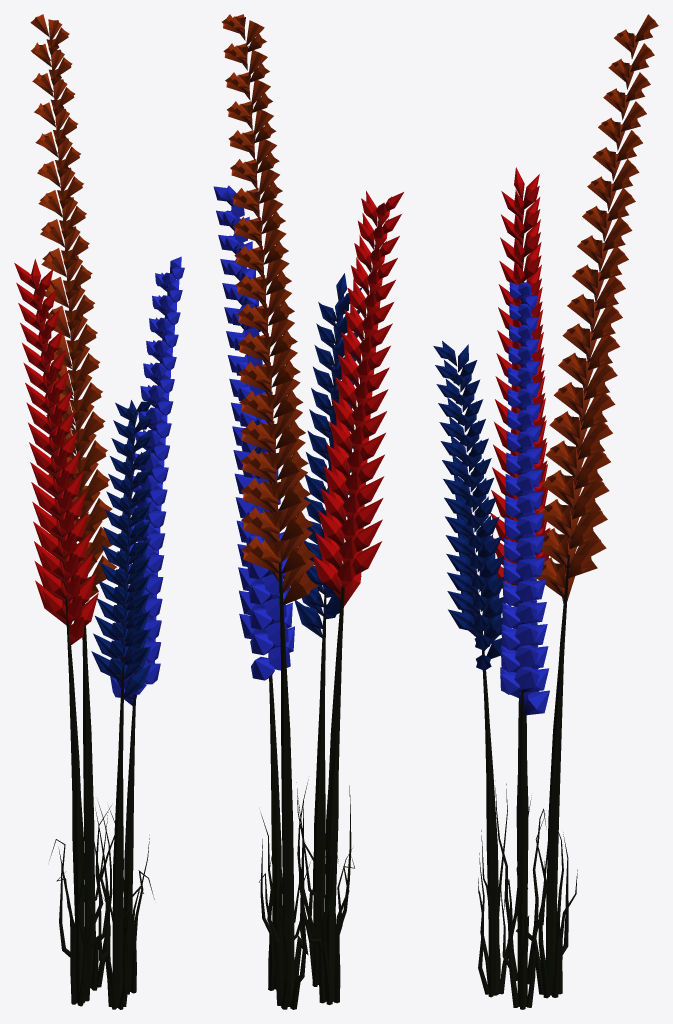
The model's file is Plant-8.fbx.
3 renders of one model, left to right at view 1: azimuth 30°, elevation 25°; view 2: azimuth 150°, elevation 25°; view 3: azimuth 270°, elevation 25°, orthographic. The views are drawn at different scales.
Visible parts, largest first — view 1: file8; view 2: file8; view 3: file8.
Part boxes in pixels (box(x1,y1,x2,y2)): file8: box(14, 14, 184, 1009); file8: box(213, 14, 403, 1009); file8: box(433, 14, 658, 1009).
Size of the model in its own units: 0.3588 by 1.91 by 0.3994.
